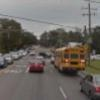buses: (55, 46, 86, 76)
